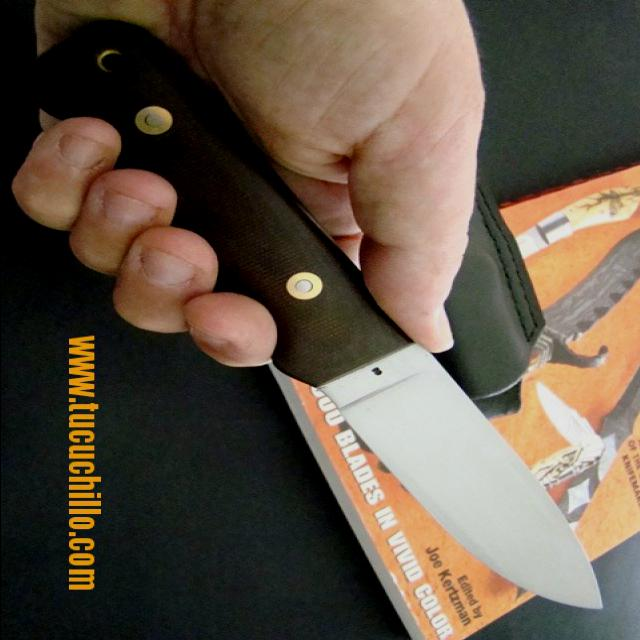knife: (21, 16, 611, 616)
